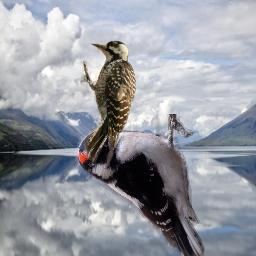Woodpecker: (75, 114, 205, 256), (79, 37, 137, 167)
